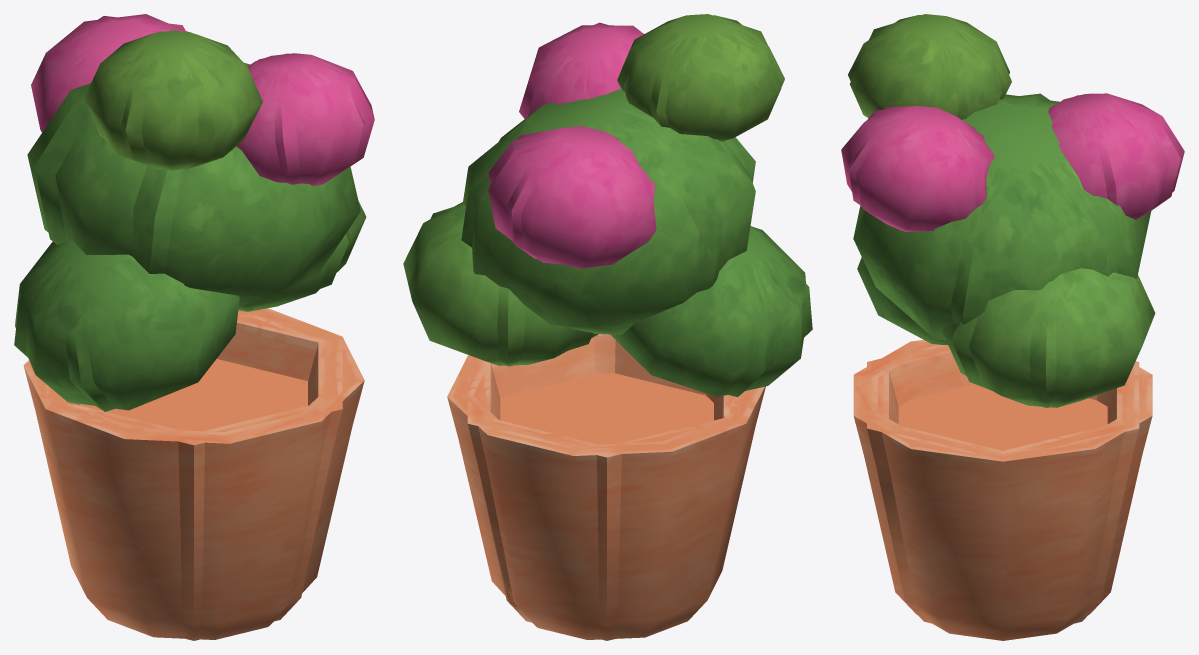
File: potted_plant.bundle.fbx
3 renders of one model, left to right at view 1: azimuth 30°, elevation 25°; view 2: azimuth 150°, elevation 25°; view 3: azimuth 270°, elevation 25°, orthographic. The views are drawn at different scales.
Parts seen in each view (by area): view 1: potted_plant, potted_plant_low, potted_plant_s00, potted_plant_s02, potted_plant_s01, potted_plant_s03; view 2: potted_plant, potted_plant_low, potted_plant_s00, potted_plant_s02, potted_plant_s01, potted_plant_s03; view 3: potted_plant, potted_plant_low, potted_plant_s01, potted_plant_s00, potted_plant_s02, potted_plant_s03.
Part boxes in pixels (bbox=[...]): potted_plant: bbox=[15, 14, 374, 639]; potted_plant_low: bbox=[14, 16, 364, 640]; potted_plant_s00: bbox=[77, 408, 308, 639]; potted_plant_s02: bbox=[218, 354, 342, 544]; potted_plant_s01: bbox=[204, 337, 340, 401]; potted_plant_s03: bbox=[51, 404, 154, 421]; potted_plant: bbox=[403, 14, 805, 639]; potted_plant_low: bbox=[430, 15, 812, 640]; potted_plant_s00: bbox=[617, 388, 738, 433]; potted_plant_s02: bbox=[537, 337, 673, 417]; potted_plant_s01: bbox=[469, 355, 622, 601]; potted_plant_s03: bbox=[509, 409, 743, 640]; potted_plant: bbox=[841, 14, 1184, 640]; potted_plant_low: bbox=[848, 15, 1180, 623]; potted_plant_s01: bbox=[973, 393, 1139, 615]; potted_plant_s00: bbox=[867, 348, 1005, 623]; potted_plant_s02: bbox=[867, 377, 974, 468]; potted_plant_s03: bbox=[1000, 363, 1139, 623].
Bounding box in the file's own units: 2.11 × 3.32 × 1.88.
Materials: 1 (1 with a texture image).
